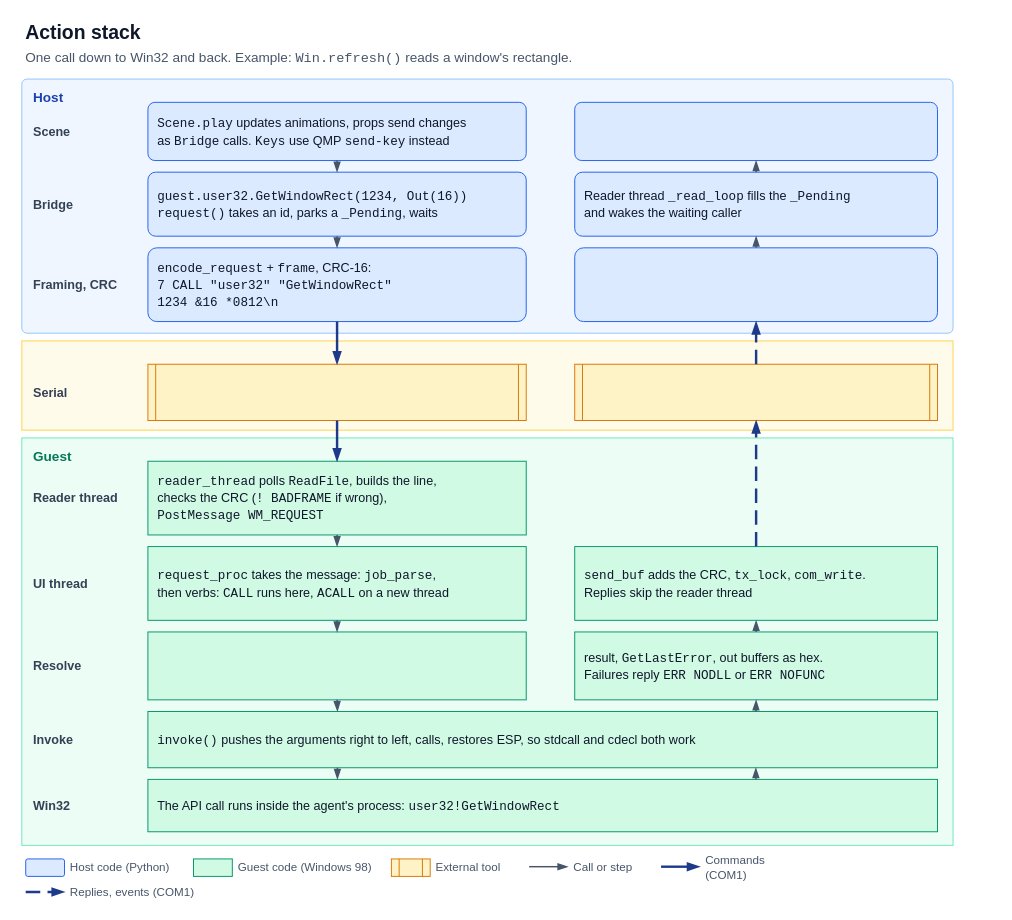
Some shapes in this 1012 by 920 pixel diagram are drawn without their labels. The box of each missing label's shape, as (x1, y1, x2, y2) in pixels:
CallResult : value, last error, buffers: (574, 101, 938, 161)
COM1, QEMU chardev, unix socket: (574, 363, 938, 420)
Link: (21, 340, 953, 430)
LoadLibraryA("user32") GetProcAddress(..., "GetWindowRect"): (147, 631, 526, 700)
unframe checks the CRC, a bad line is dropped: 7 OK 1 0 #0a0000001400... *bf8a\n: (574, 247, 938, 322)
unix socket, QEMU chardev, emulated COM1 115200 baud, not paced by QEMU: (147, 363, 526, 420)
